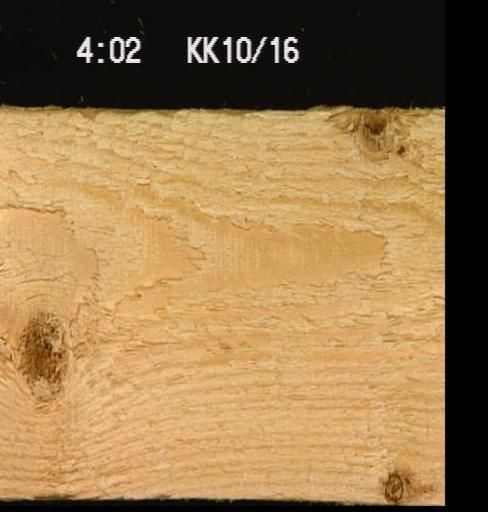edge_knot: (325, 104, 428, 161), (381, 468, 405, 504)
